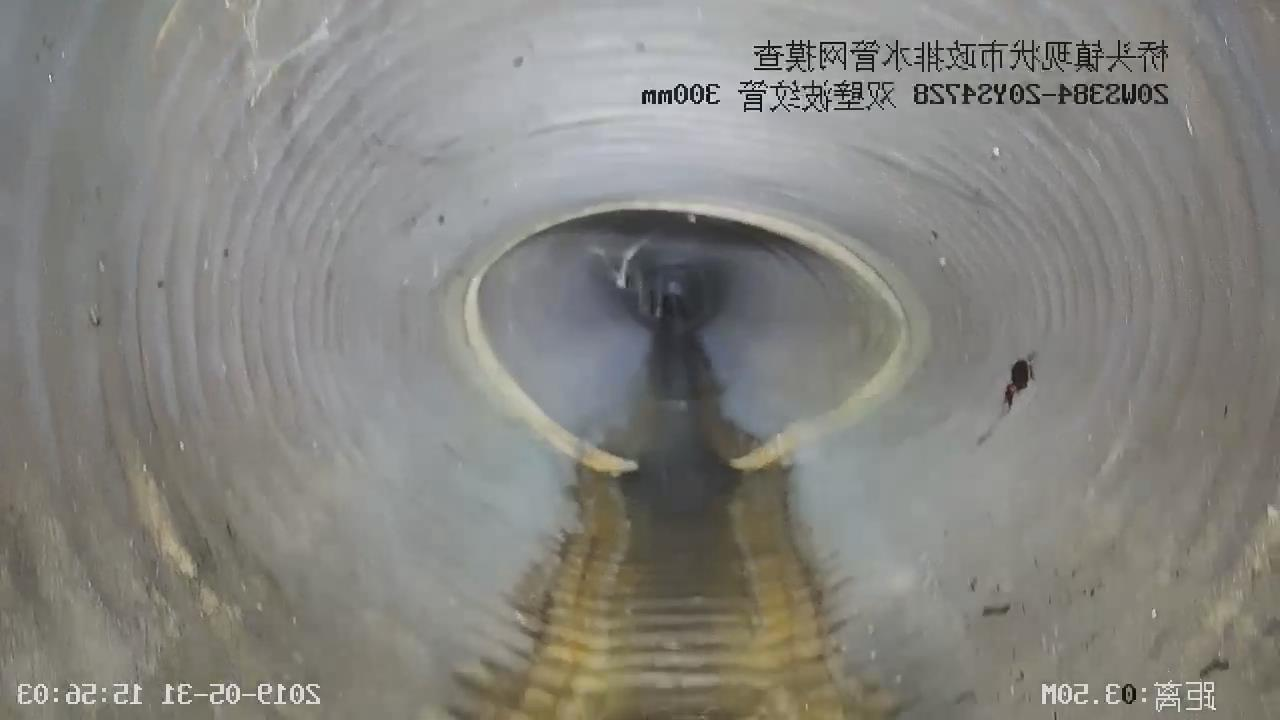BX: (419, 192, 929, 482)
CKTJ: (448, 197, 930, 473)
